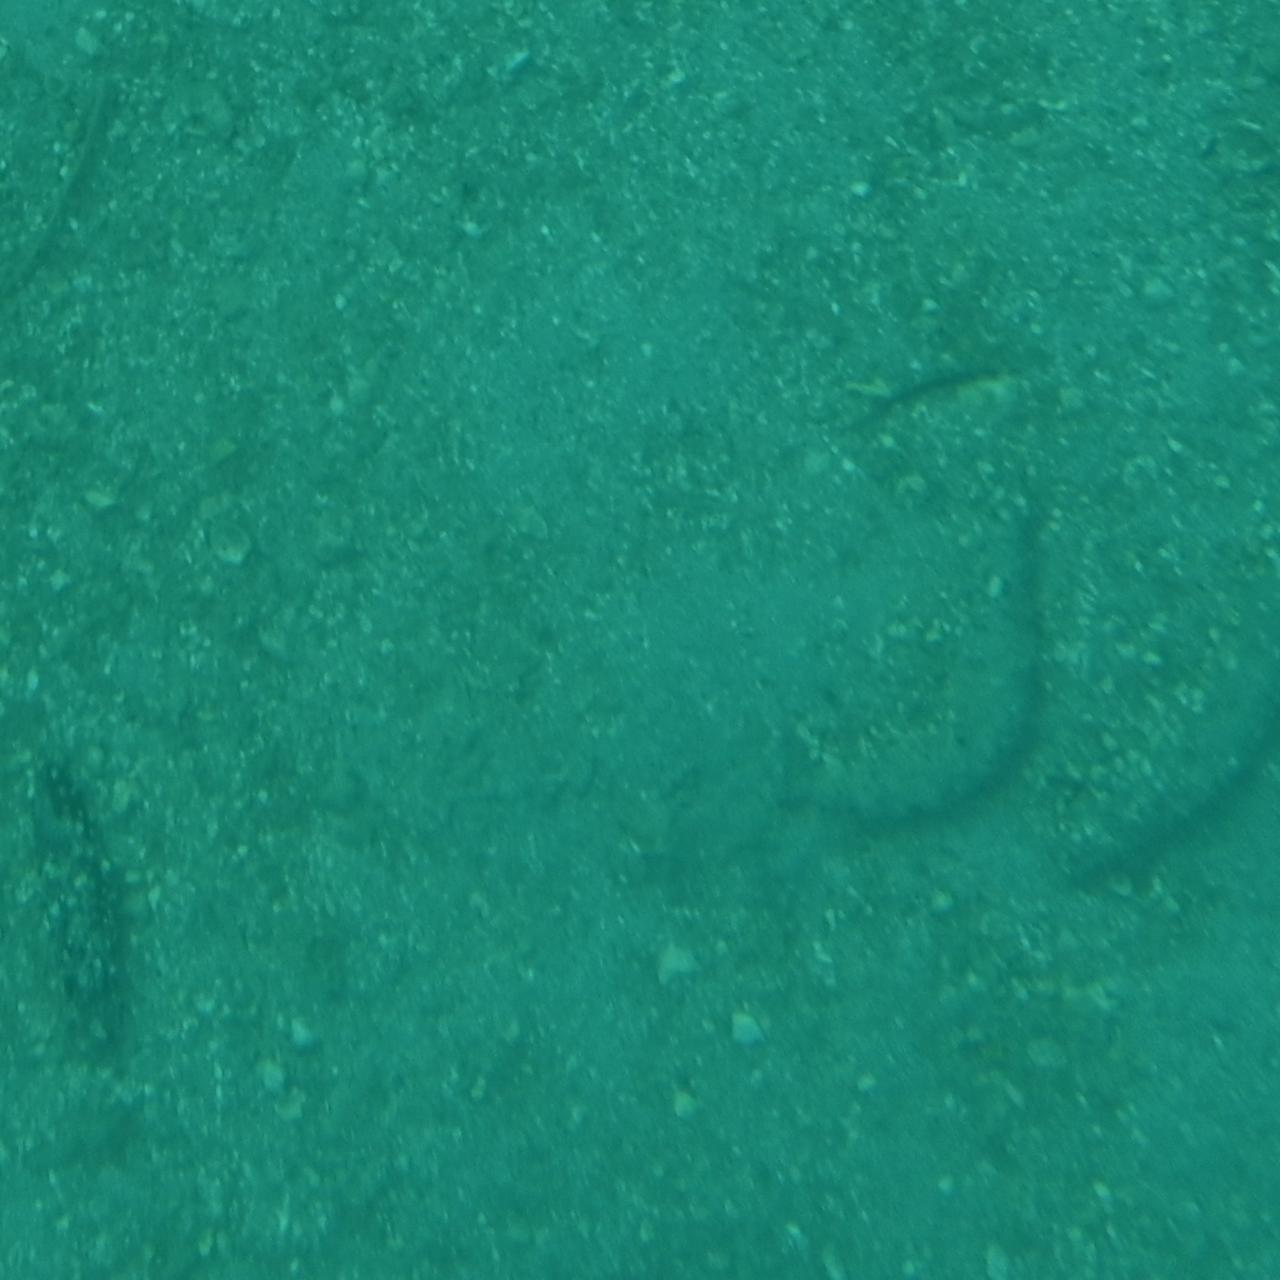Holothuria tubulosa: (1047, 530, 1280, 891), (809, 486, 1035, 835), (30, 716, 149, 1182)
